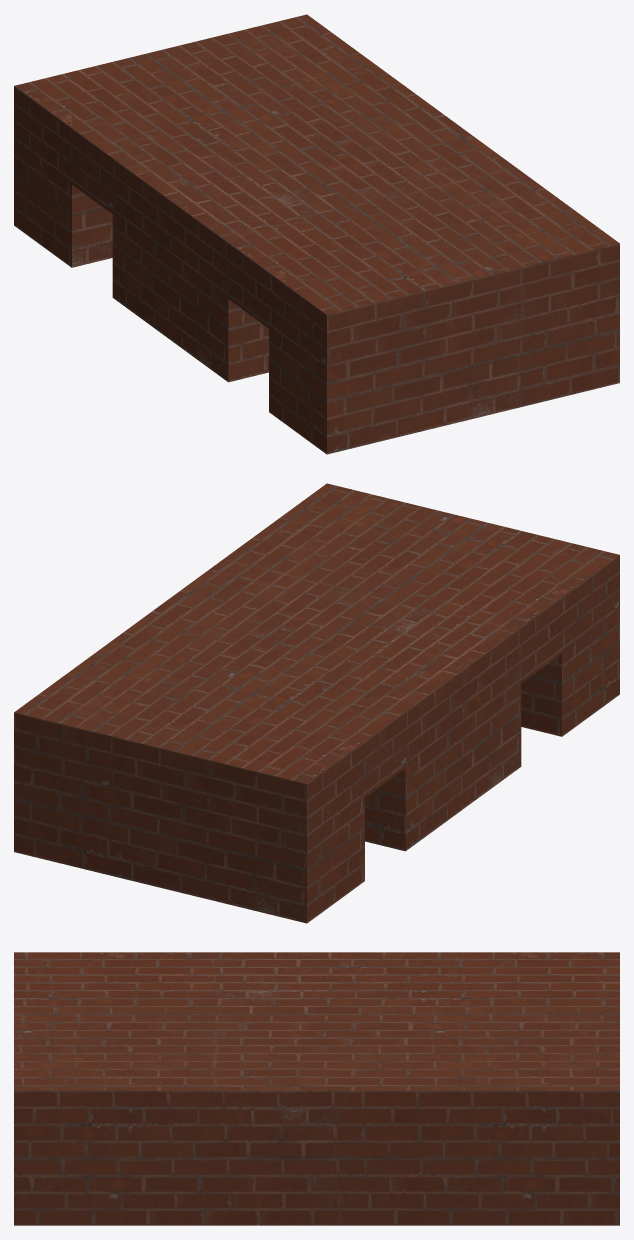
File: SM_StoneWall05B.fbx
3 views of the same model, one above another, from view 1: azimuth 30°, elevation 25°; view 2: azimuth 150°, elevation 25°; view 3: azimuth 270°, elevation 25° (orthographic). The views are drawn at different scales.
Visible parts, largest first — view 1: SM_StoneWall05B; view 2: SM_StoneWall05B; view 3: SM_StoneWall05B.
Boxes of the visible parts, x1,y1,x2,y2 form: SM_StoneWall05B: [14, 14, 619, 454]; SM_StoneWall05B: [14, 483, 619, 923]; SM_StoneWall05B: [14, 952, 619, 1225].
Size of the model in its own units: 113 by 209 by 51.43.
1 material, 1 textured.
